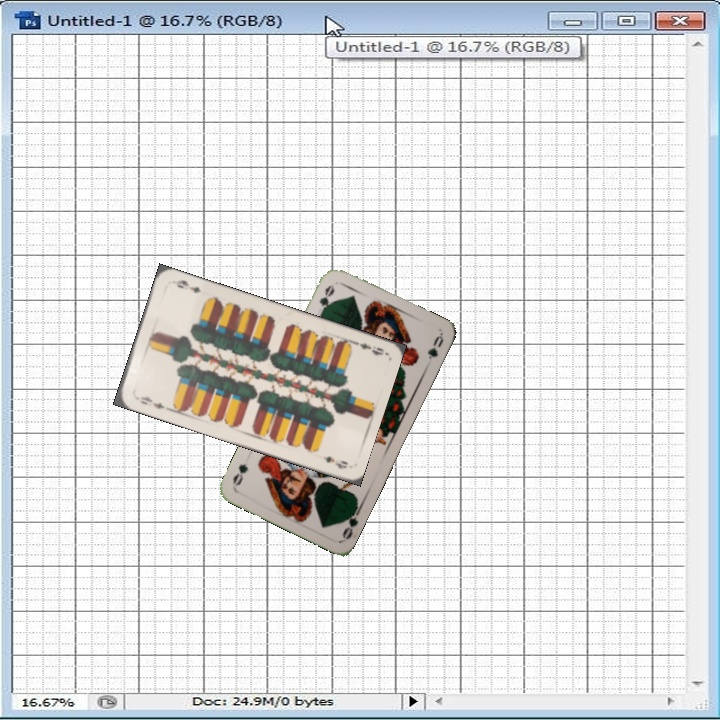E9: (346, 336, 387, 358), (131, 392, 167, 412)
GO: (338, 502, 364, 542), (315, 280, 337, 319)
